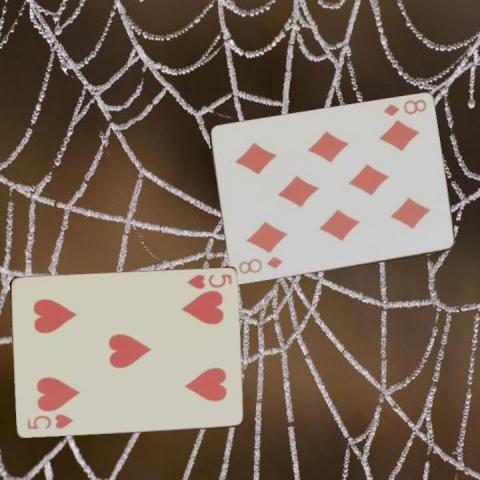5h: (24, 411, 75, 431), (184, 271, 234, 291)
8d: (235, 254, 284, 276), (380, 96, 428, 118)
